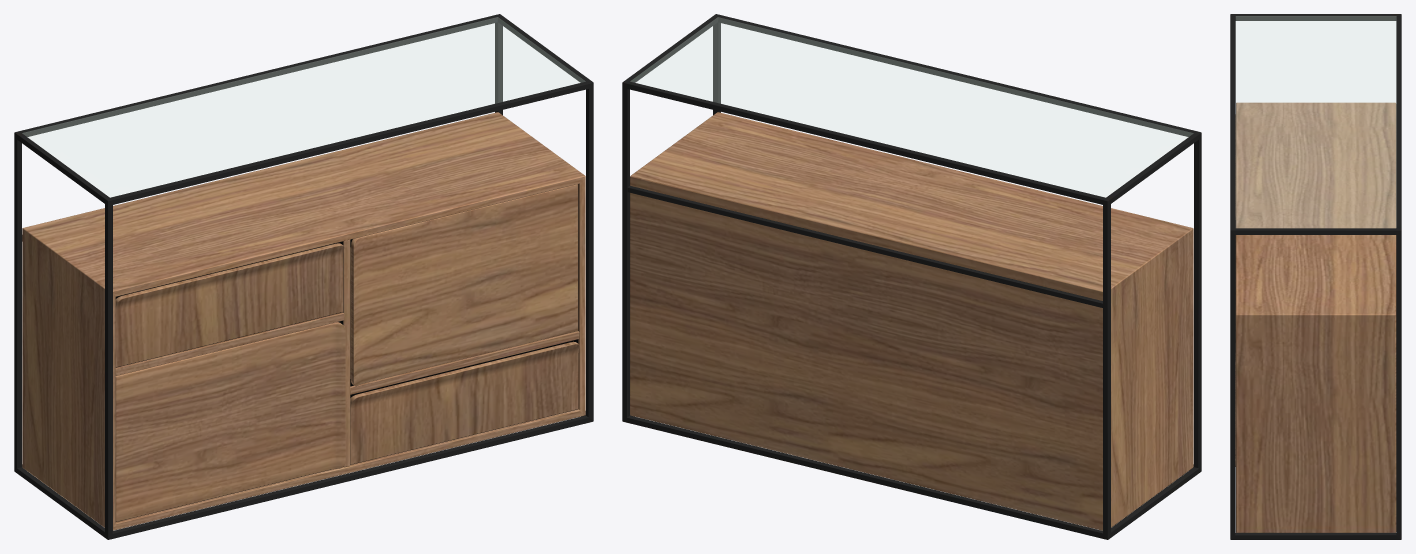
The model's file is abo-B072ZNPRTC.glb.
3 renders of one model, left to right at view 1: azimuth 30°, elevation 25°; view 2: azimuth 150°, elevation 25°; view 3: azimuth 270°, elevation 25°, orthographic. The views are drawn at different scales.
Size of the model in its own units: 1.2 by 0.8 by 0.401.
1 material, 1 textured.
